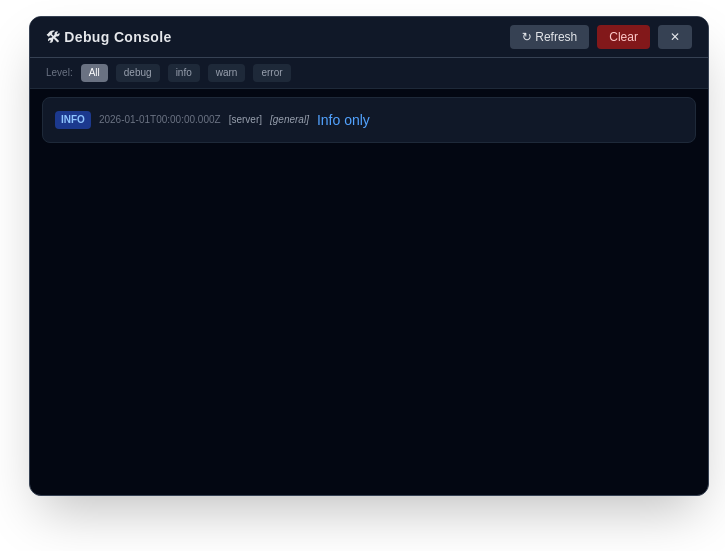
Test: DebugPanel — level filter › shows "No log entries yet." when filter matches nothing
Expected: the text "Info only" is shown, [317,112,370,128]
Click the button with aria-label "filter by error" at (272,73), box [253,64,290,82]
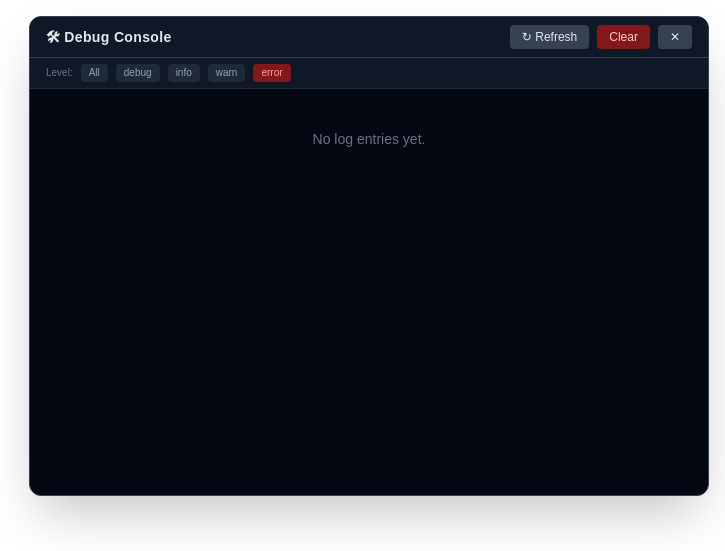
Now the text "No log entries yet." is shown, box [313,131,425,147]
